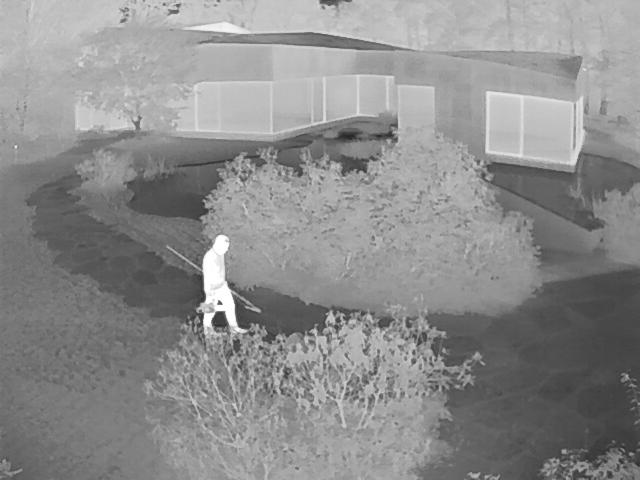person: (204, 234, 250, 336)
